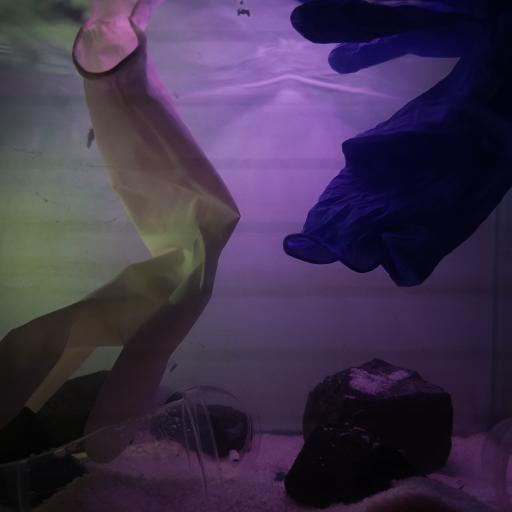glove: (3, 2, 241, 462), (281, 0, 512, 292)
plastic_cup: (0, 386, 226, 512), (143, 371, 263, 487), (477, 417, 512, 512)
